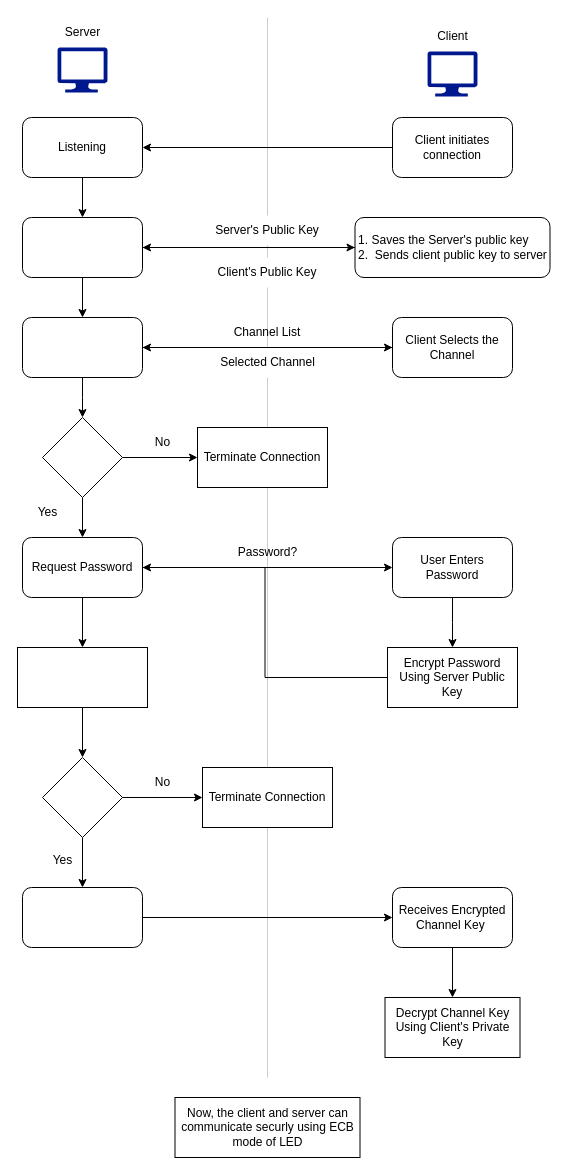
The diagram is 568 pixels wide and 1175 high, and some of its shapes have lost their labels. The shapes that lost their labels are listed below. From the top down, each one's centre as x and y in pixels, then its label:
the point at 82,247: Connection Established
the point at 82,347: Share Channels List
the point at 82,457: Channel Exists?
the point at 82,677: Decrypt Password Using Server Private Key
the point at 82,797: Password Correct?
the point at 82,917: Send Encrypted Channel Key
